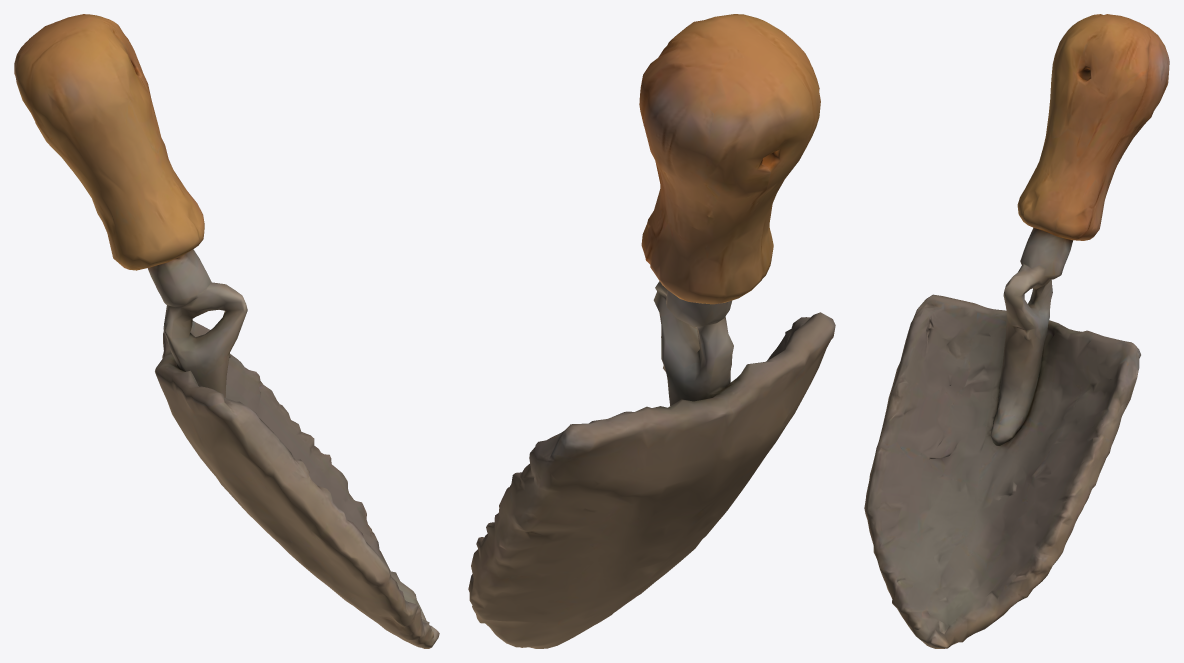
The model's file is trowel.glb.
3 views of the same model, side by side, from view 1: azimuth 30°, elevation 25°; view 2: azimuth 150°, elevation 25°; view 3: azimuth 270°, elevation 25° (orthographic). The views are drawn at different scales.
Visible parts, largest first — view 1: tripo_node_88e1d632-8487-488e-a150-b85d05cb4d04; view 2: tripo_node_88e1d632-8487-488e-a150-b85d05cb4d04; view 3: tripo_node_88e1d632-8487-488e-a150-b85d05cb4d04.
Part boxes in pixels (x1,y1,x2,y2): tripo_node_88e1d632-8487-488e-a150-b85d05cb4d04: [14, 14, 439, 648]; tripo_node_88e1d632-8487-488e-a150-b85d05cb4d04: [468, 14, 835, 648]; tripo_node_88e1d632-8487-488e-a150-b85d05cb4d04: [864, 14, 1169, 648].
Size of the model in its own units: 0.5396 by 1 by 0.5234.
Materials: 1 (1 with a texture image).
